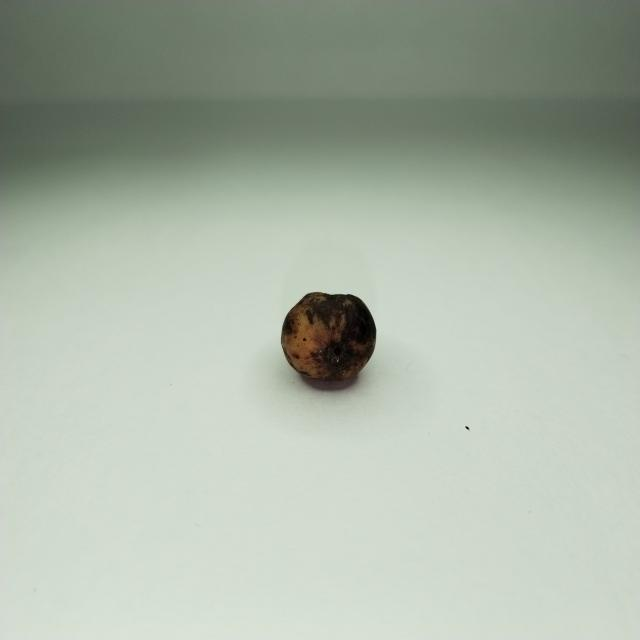Infectado: (280, 293, 378, 380)
